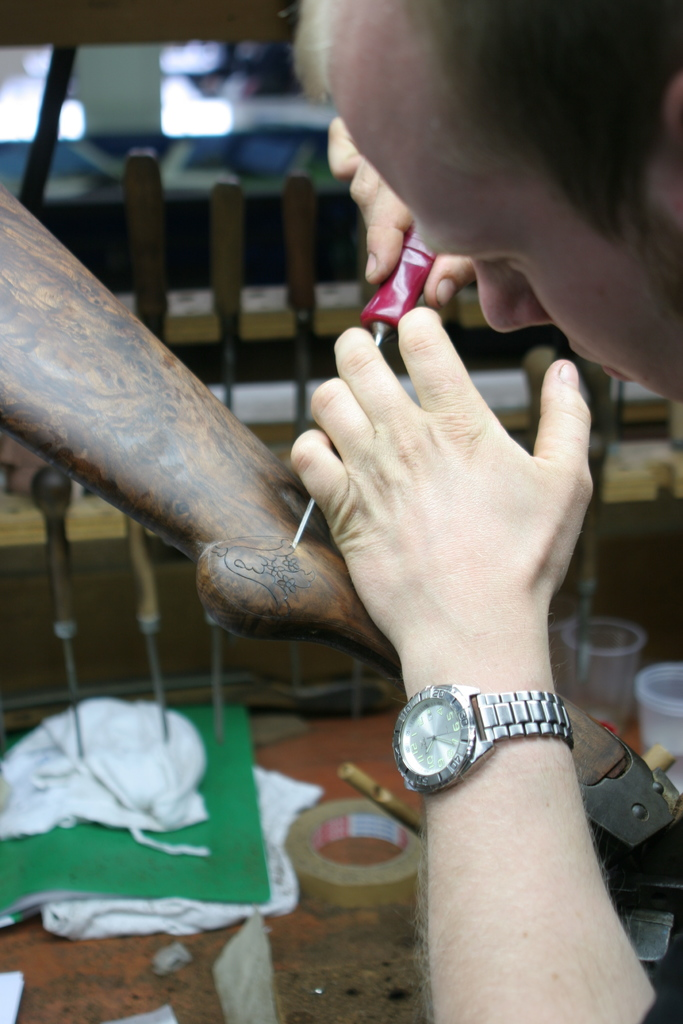watch: (378, 685, 571, 805)
